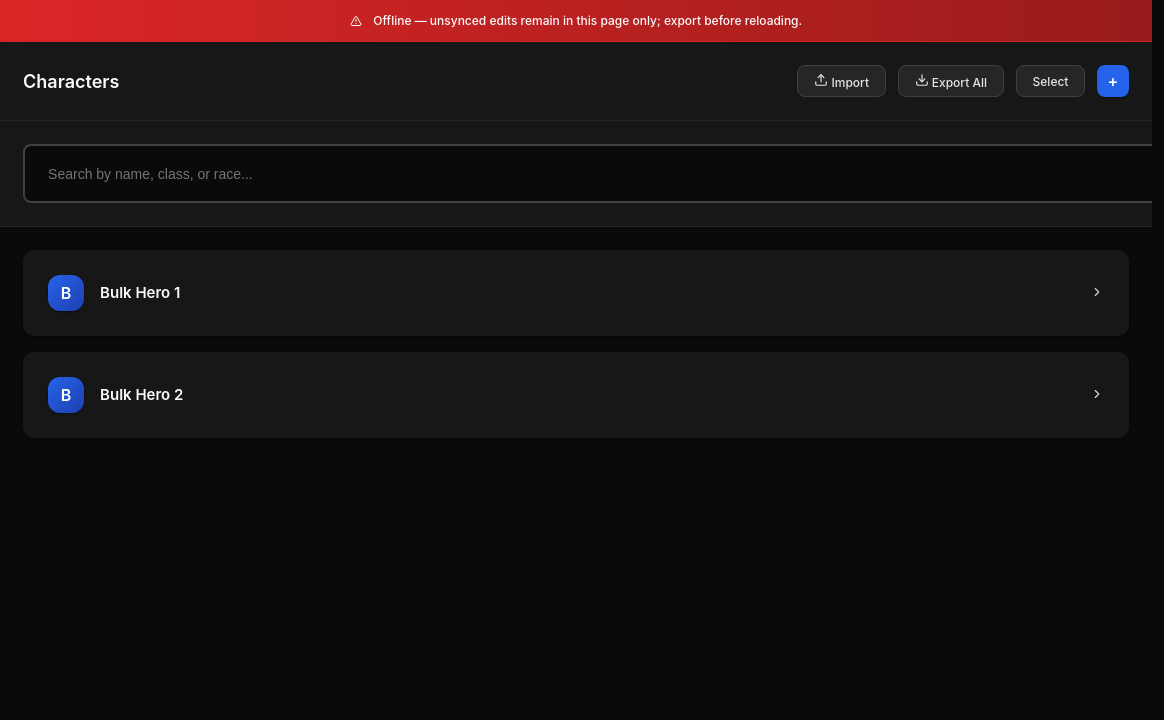
Test: CharacterPanel › Bulk Operations › allows selecting individual characters in bulk mode
Enter bulk selection mode
Click the button "Select". click: [1051, 81]
box: left=1016, top=65, right=1086, bottom=97
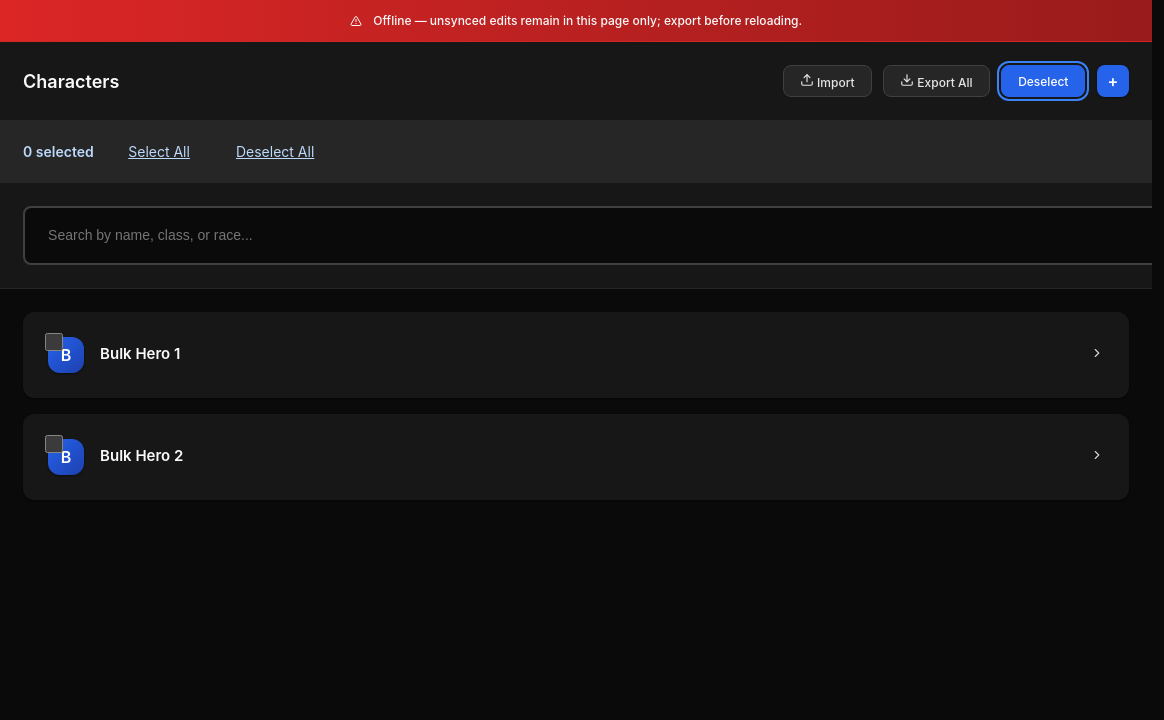
Select first character
Click the 1st checkbox. click: [54, 342]
box: left=45, top=333, right=63, bottom=351
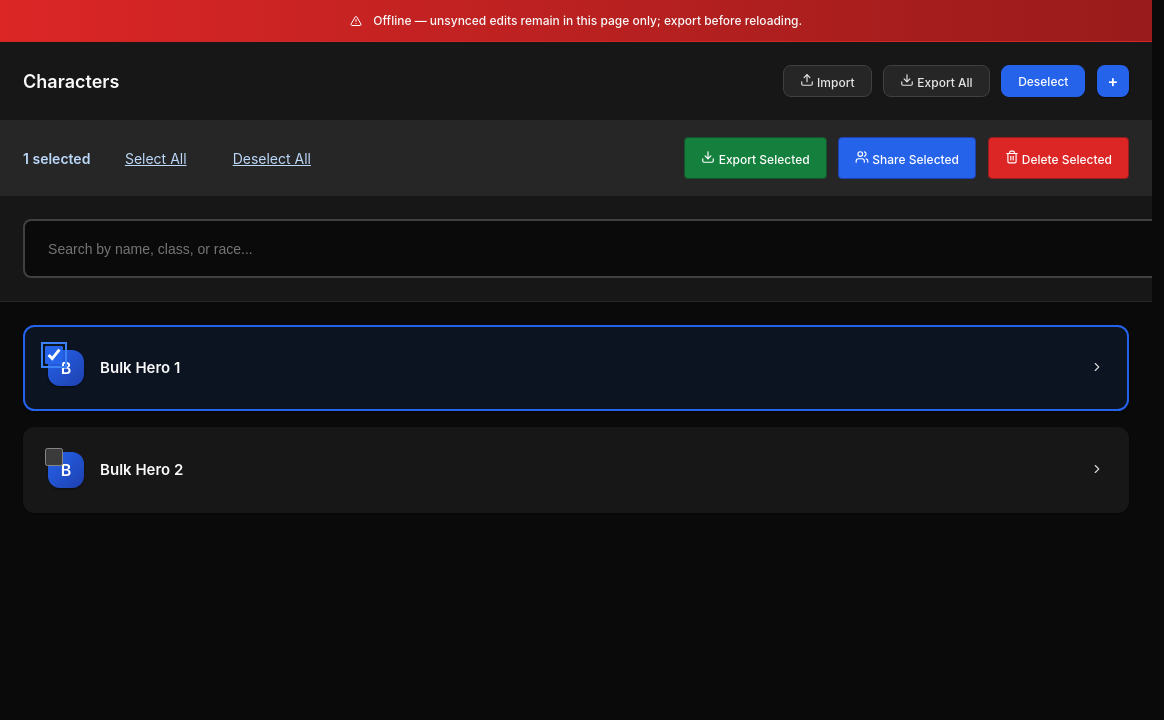
Expected: the button "Export Selected" is shown, left=684, top=137, right=827, bottom=179
